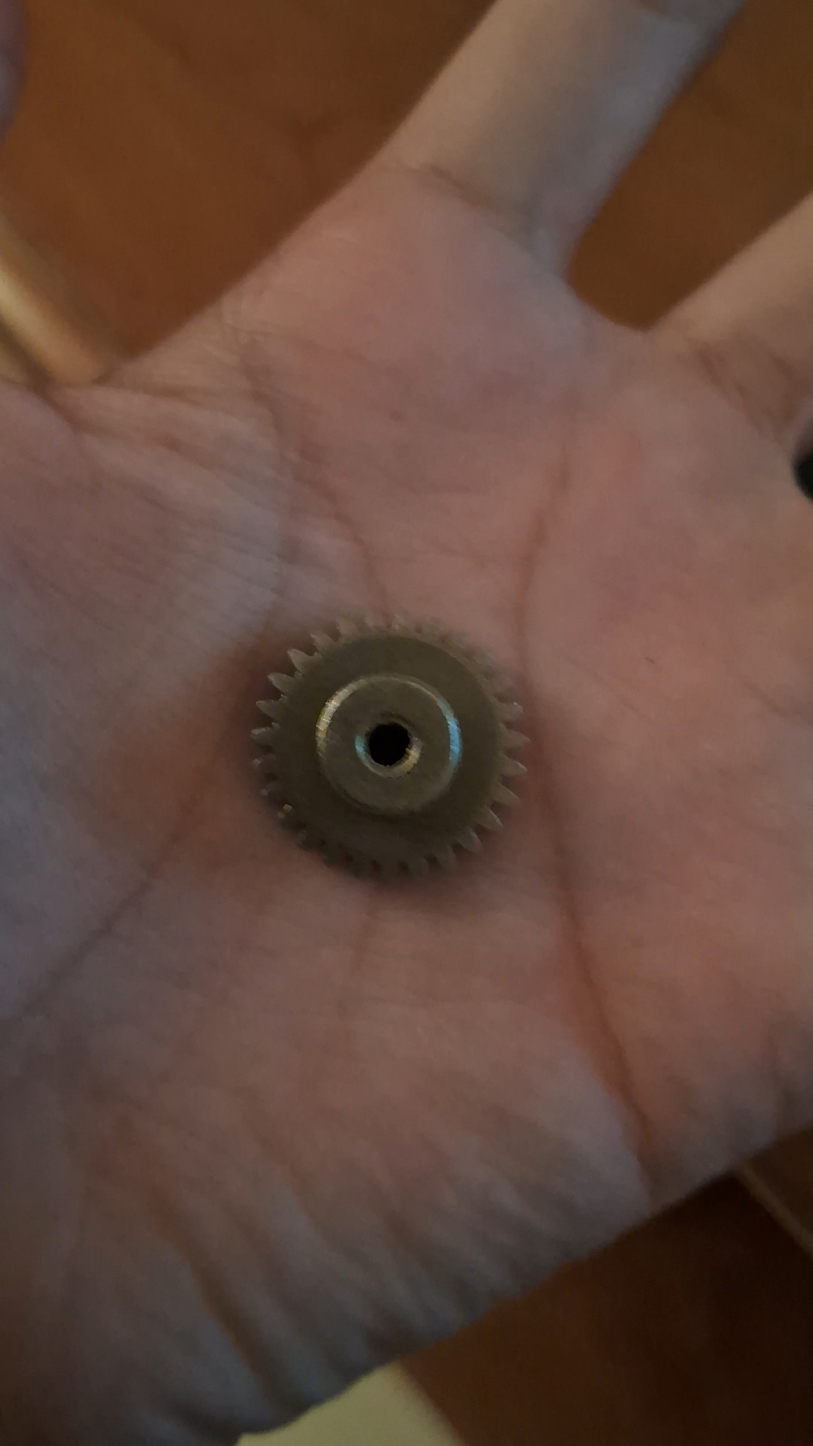spur gear: (253, 618, 525, 879)
